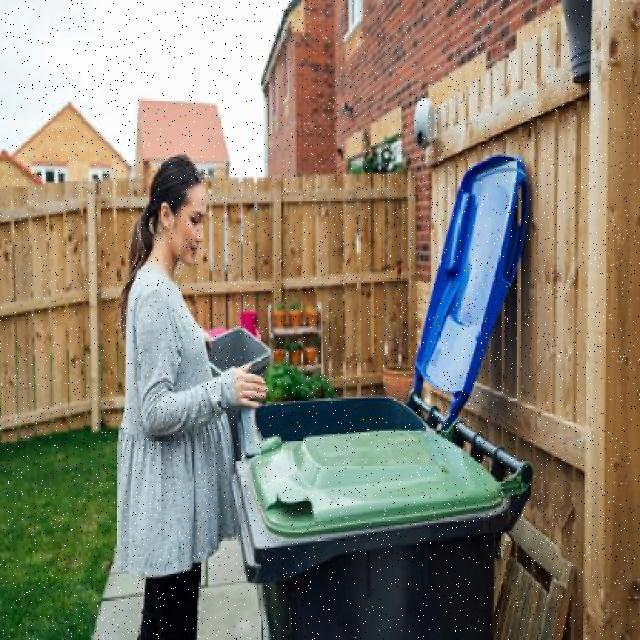garbage container: (231, 395, 540, 640)
